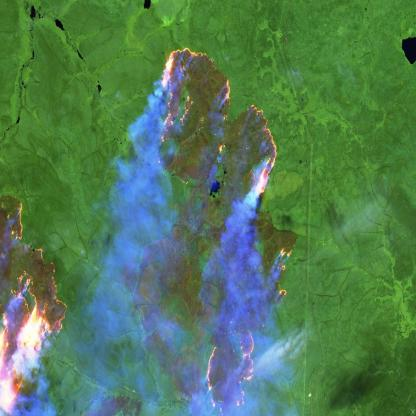fire: (155, 38, 294, 416), (0, 194, 74, 416)
